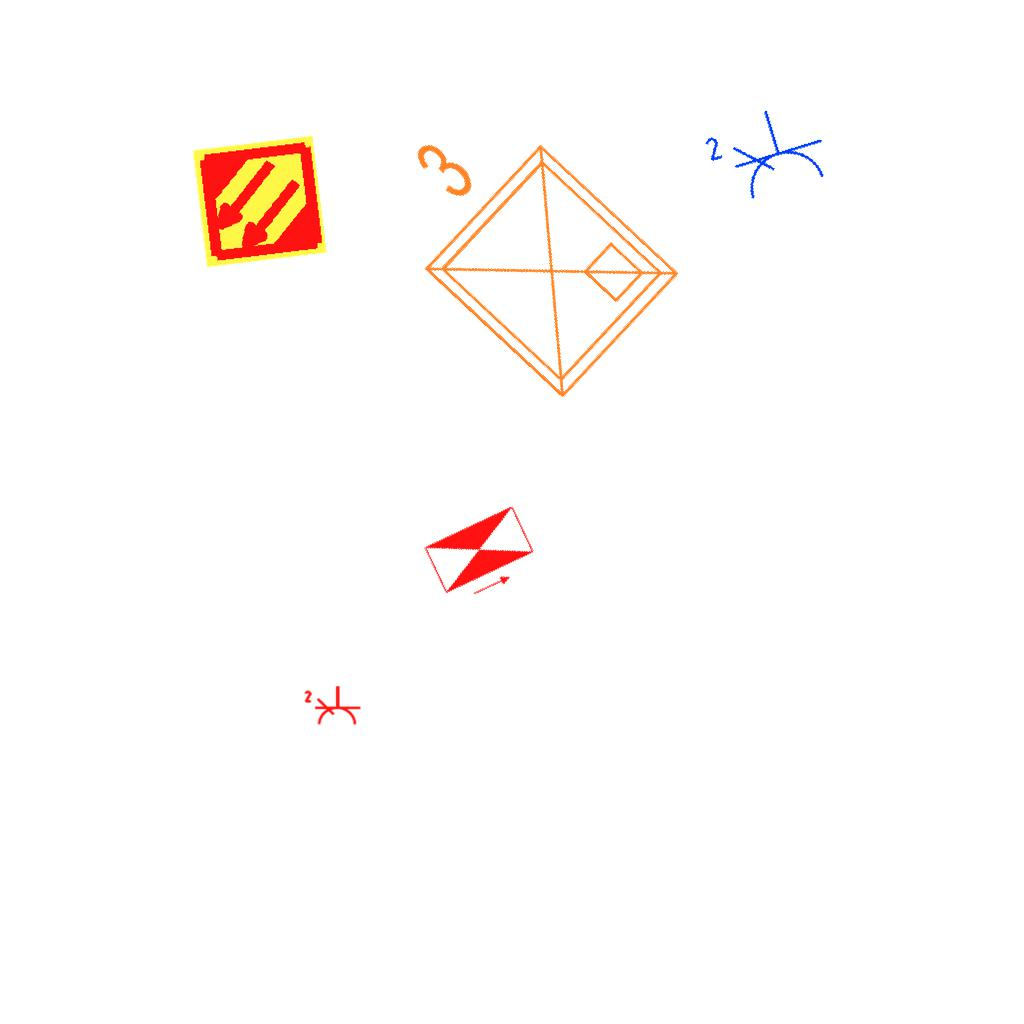ASR_Ansaugrauchmelder: (189, 131, 330, 272)
Einbaudownlights_LED_Konferenzraeume: (338, 67, 700, 425)
Fluchtwegpiktogramm: (419, 501, 546, 613)
Schukosteckdose_mehrfach: (694, 95, 836, 216), (303, 683, 363, 727)
